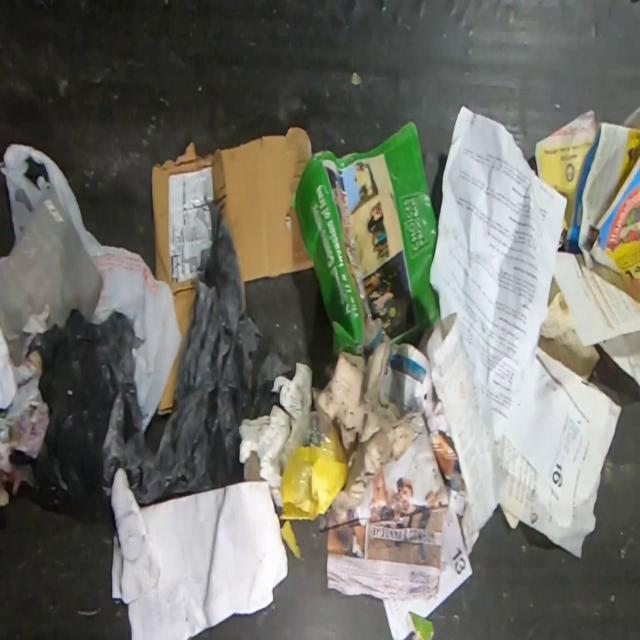cardboard: (151, 127, 313, 414)
soft_plastic: (27, 191, 289, 522), (3, 141, 182, 432), (0, 183, 104, 367), (538, 273, 599, 380), (282, 407, 338, 502)
